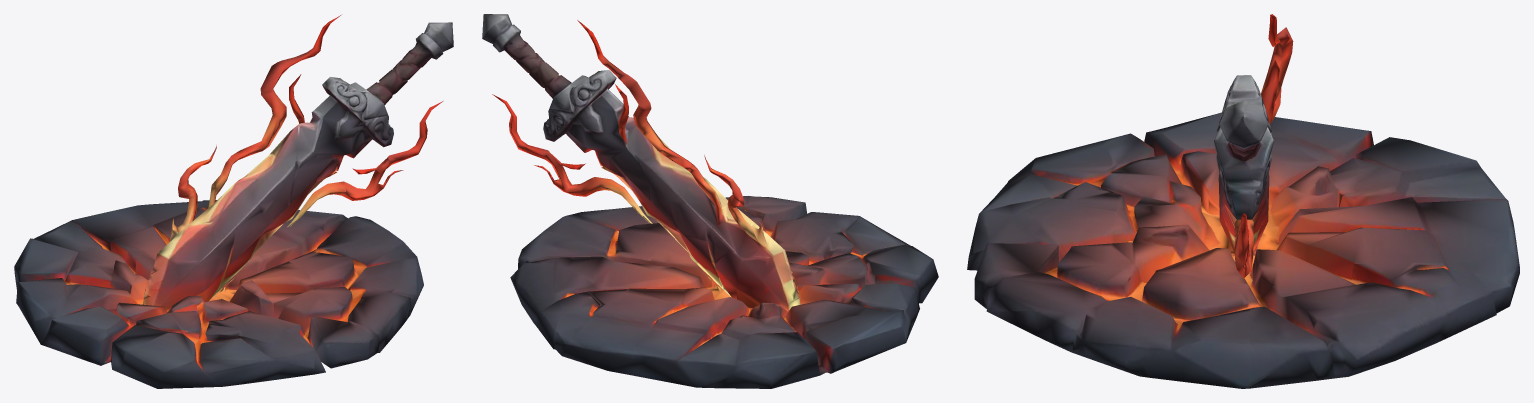
Rendered from ss_yangren.glb.
The picture shows the model from 3 angles, left to right: view 1: azimuth 30°, elevation 25°; view 2: azimuth 150°, elevation 25°; view 3: azimuth 270°, elevation 25°; orthographic projection. The views are drawn at different scales.
Parts seen in each view (by area): view 1: tripo_node_534e1a62-f426-4c5d-8f8e-3d201bb7cb4b; view 2: tripo_node_534e1a62-f426-4c5d-8f8e-3d201bb7cb4b; view 3: tripo_node_534e1a62-f426-4c5d-8f8e-3d201bb7cb4b.
Part boxes in pixels (<box>): tripo_node_534e1a62-f426-4c5d-8f8e-3d201bb7cb4b: <box>14,15,453,388</box>; tripo_node_534e1a62-f426-4c5d-8f8e-3d201bb7cb4b: <box>482,14,938,388</box>; tripo_node_534e1a62-f426-4c5d-8f8e-3d201bb7cb4b: <box>967,14,1519,388</box>.
Bounding box in the file's own units: 0.9992 × 0.5794 × 0.8404.
1 material, 1 textured.
